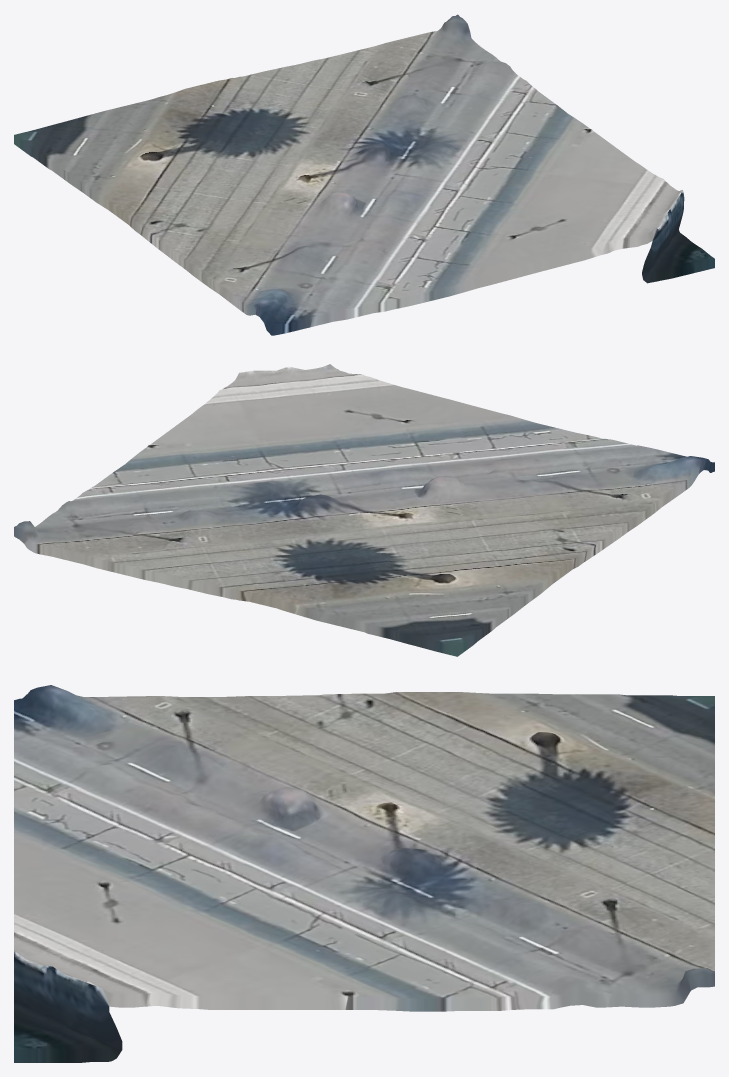
File: z20-167796-405229-h0-yup-uvflip-v3-world.glb
The picture shows the model from 3 angles, top to bottom: view 1: azimuth 30°, elevation 25°; view 2: azimuth 150°, elevation 25°; view 3: azimuth 270°, elevation 25°; orthographic projection. The views are drawn at different scales.
Bounding box in the file's own units: 30.16 × 4.28 × 30.32.
1 material, 1 textured.
